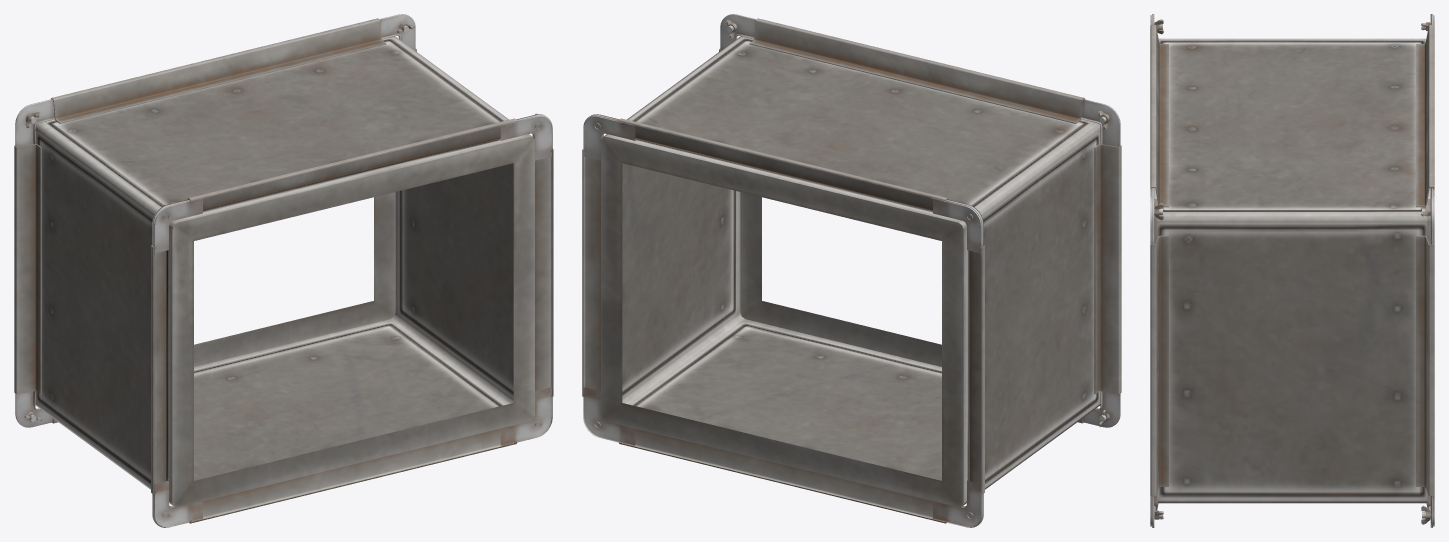
File: half_01.glb
The picture shows the model from 3 angles, left to right: view 1: azimuth 30°, elevation 25°; view 2: azimuth 150°, elevation 25°; view 3: azimuth 270°, elevation 25°; orthographic projection.
Visible parts, largest first — view 1: modular_airduct_rectangular_01_half_01.001; view 2: modular_airduct_rectangular_01_half_01.001; view 3: modular_airduct_rectangular_01_half_01.001.
Part boxes in pixels (x1,y1,x2,y2): modular_airduct_rectangular_01_half_01.001: (14,14,553,527); modular_airduct_rectangular_01_half_01.001: (582,14,1121,527); modular_airduct_rectangular_01_half_01.001: (1150,14,1434,527).
Bounding box in the file's own units: 0.6634 × 0.5126 × 0.4.
1 material, 1 textured.
